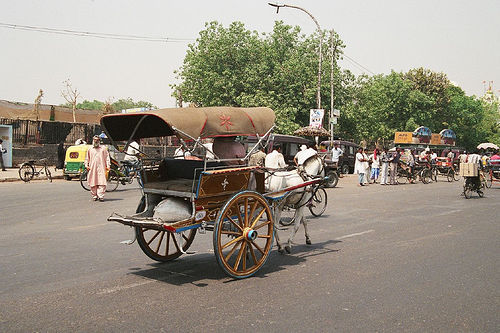horse: (259, 152, 330, 257)
